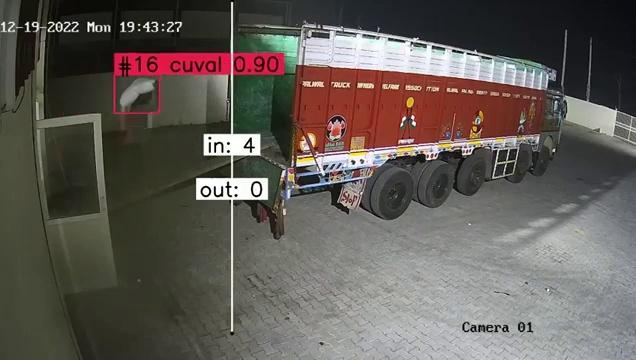karung: (117, 78, 157, 110)
